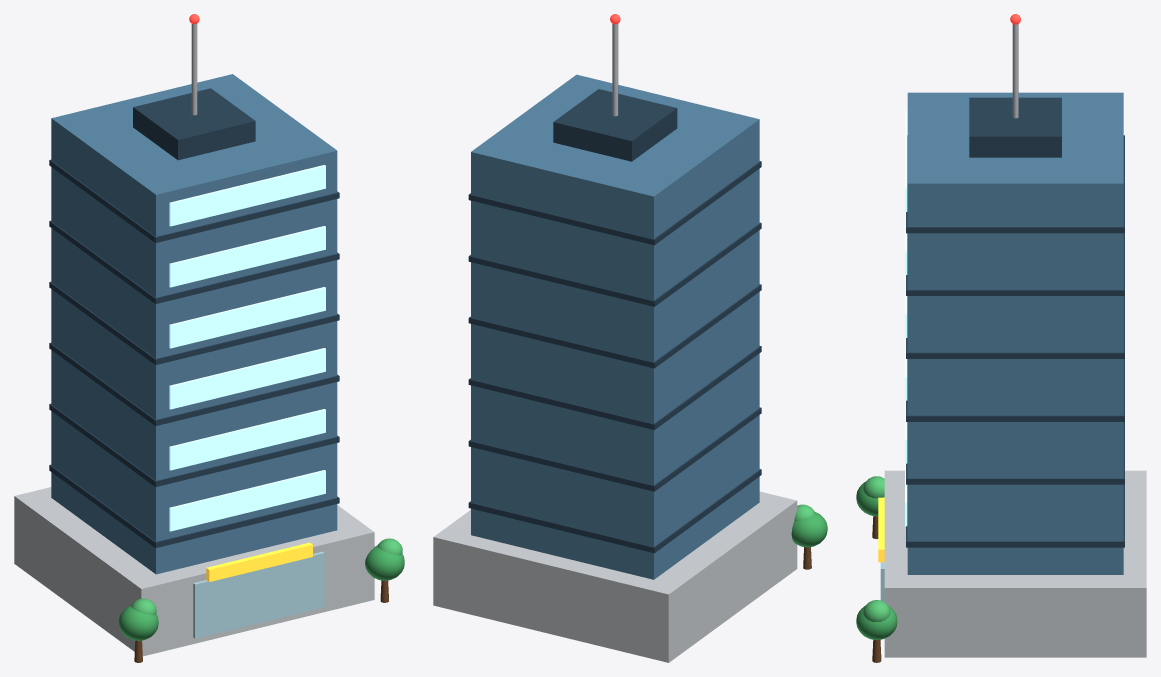
File: biz_company.glb
3 views of the same model, side by side, from view 1: azimuth 30°, elevation 25°; view 2: azimuth 150°, elevation 25°; view 3: azimuth 270°, elevation 25° (orthographic). The views are drawn at different scales.
Bounding box in the file's own units: 4.34 × 8.37 × 3.77.
